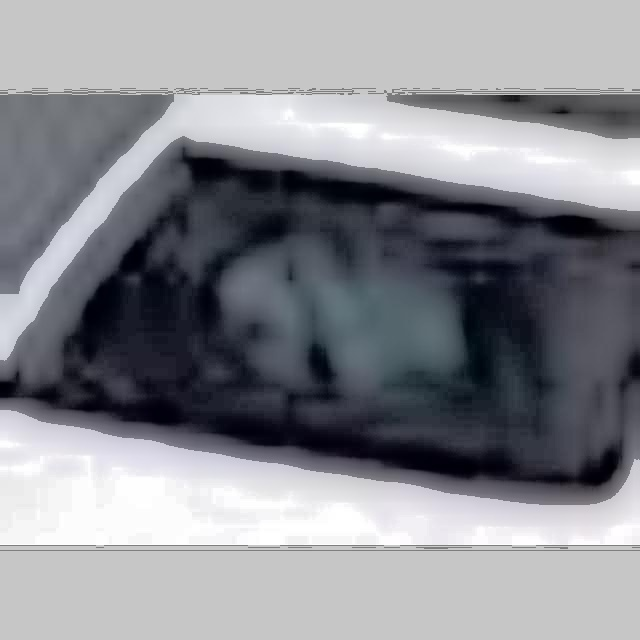pakai: (201, 166, 439, 439)
